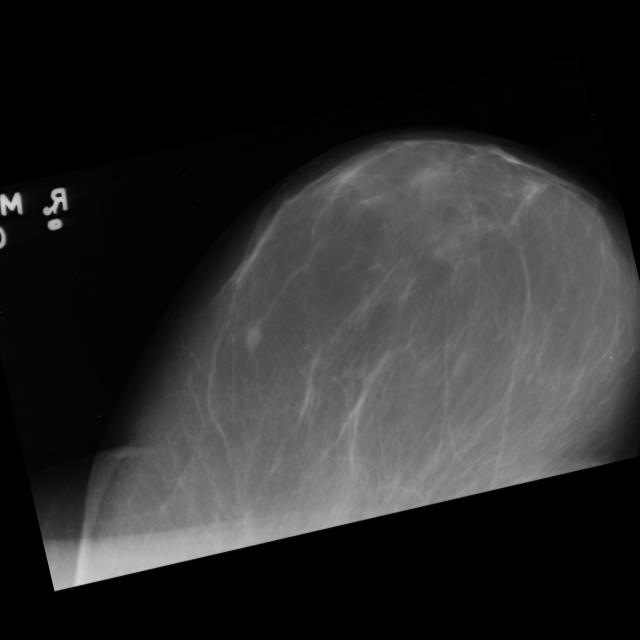SPIC: (13, 350, 336, 640)
